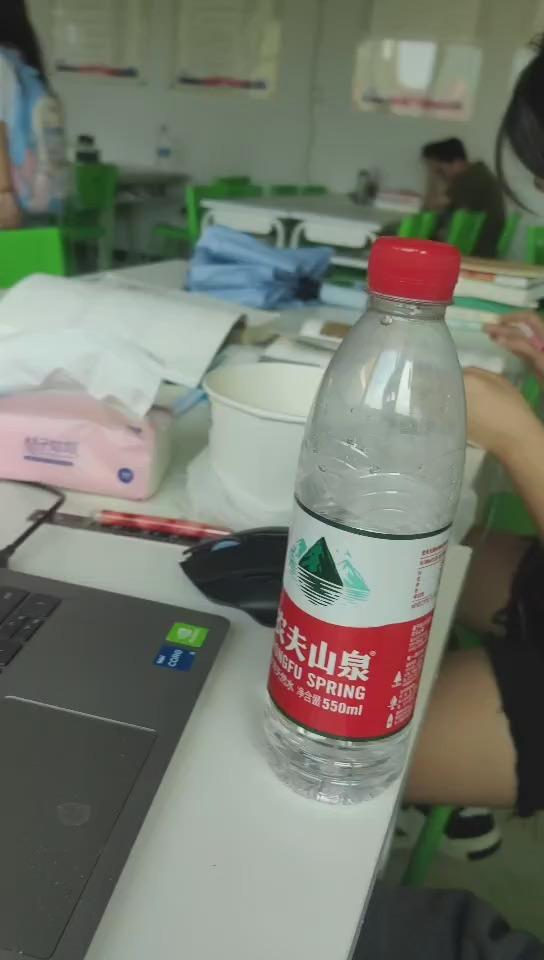BIODEGRADABLE: (246, 226, 475, 804)
